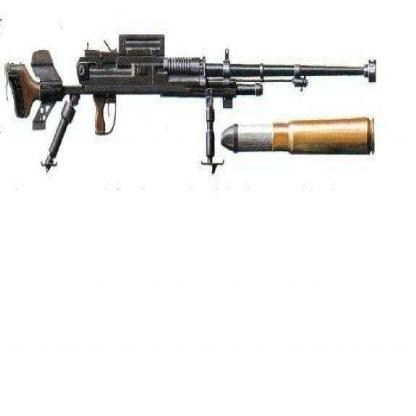rifle: (4, 28, 393, 167)
